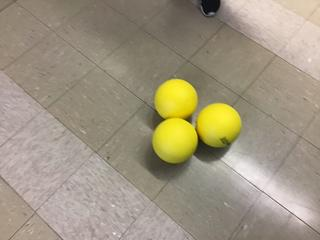power_cell: (145, 119, 200, 166), (195, 102, 244, 153), (152, 77, 200, 121)
